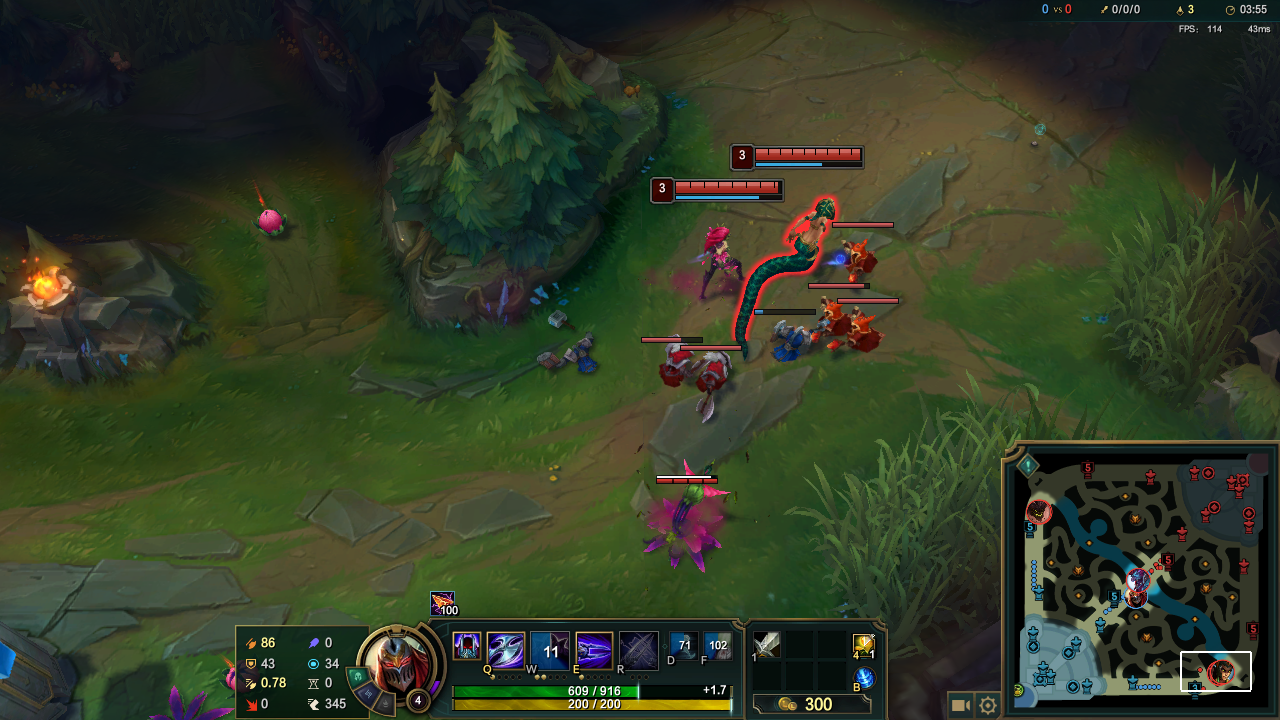DFYX: (751, 147, 861, 166), (672, 180, 781, 198)
